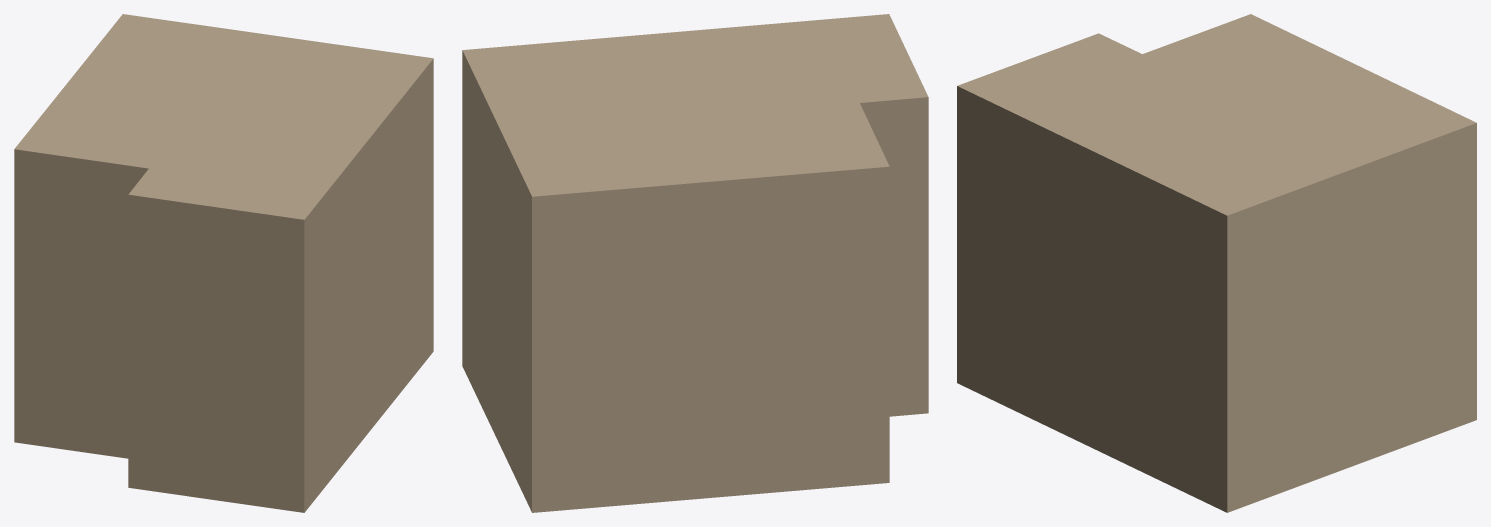
The model's file is bld_106297736.dae.
3 views of the same model, side by side, from view 1: azimuth 30°, elevation 25°; view 2: azimuth 150°, elevation 25°; view 3: azimuth 270°, elevation 25° (orthographic). The views are drawn at different scales.
Visible parts, largest first — view 1: bld_106297736; view 2: bld_106297736; view 3: bld_106297736.
Part boxes in pixels (x1,y1,x2,y2): bld_106297736: (14,14,433,512); bld_106297736: (462,14,928,512); bld_106297736: (957,14,1476,512).
Size of the model in its own units: 11.65 by 12.68 by 8.
